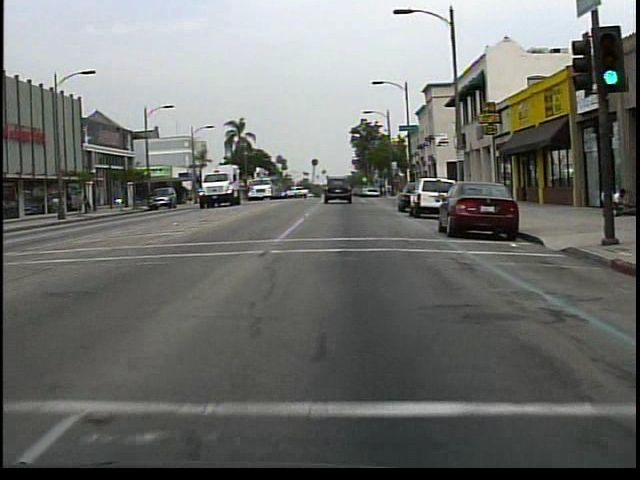person: (595, 180, 616, 217), (83, 190, 94, 216)
